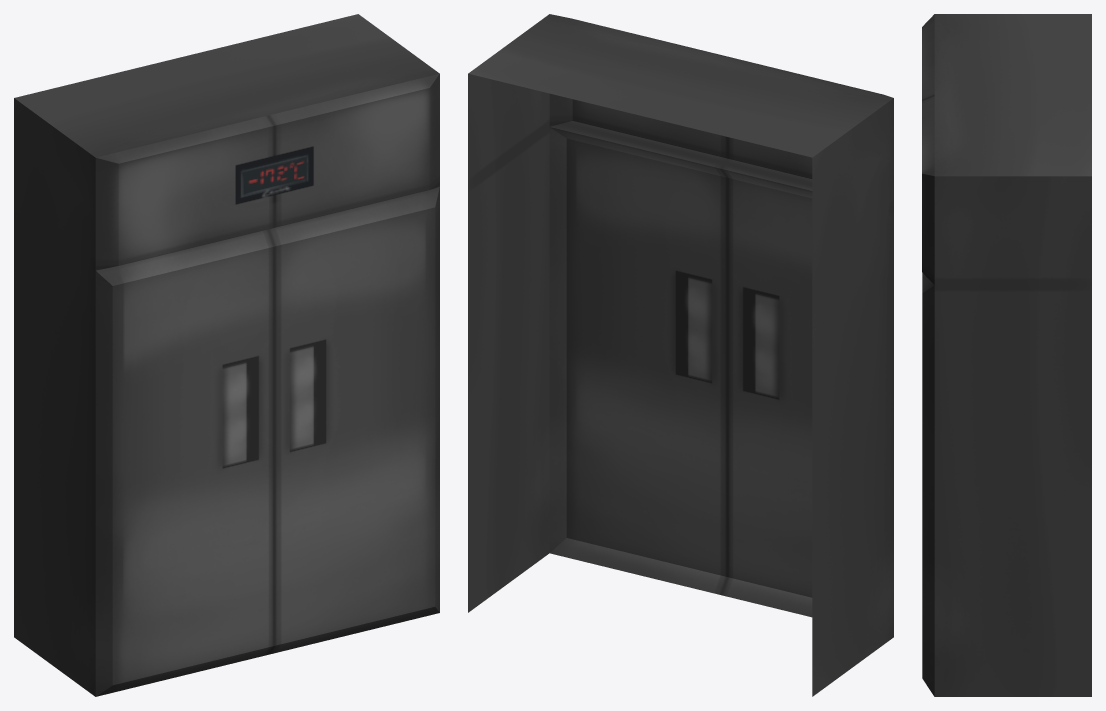
File: SM_refrigerator.FBX
3 renders of one model, left to right at view 1: azimuth 30°, elevation 25°; view 2: azimuth 150°, elevation 25°; view 3: azimuth 270°, elevation 25°, orthographic. The views are drawn at different scales.
Parts seen in each view (by area): view 1: refrigerator; view 2: refrigerator; view 3: refrigerator.
Part boxes in pixels (x1,y1,x2,y2): refrigerator: (14, 14, 439, 696); refrigerator: (468, 14, 893, 696); refrigerator: (922, 14, 1091, 696).
Size of the model in its own units: 672 by 1006 by 297.
1 material, 1 textured.
